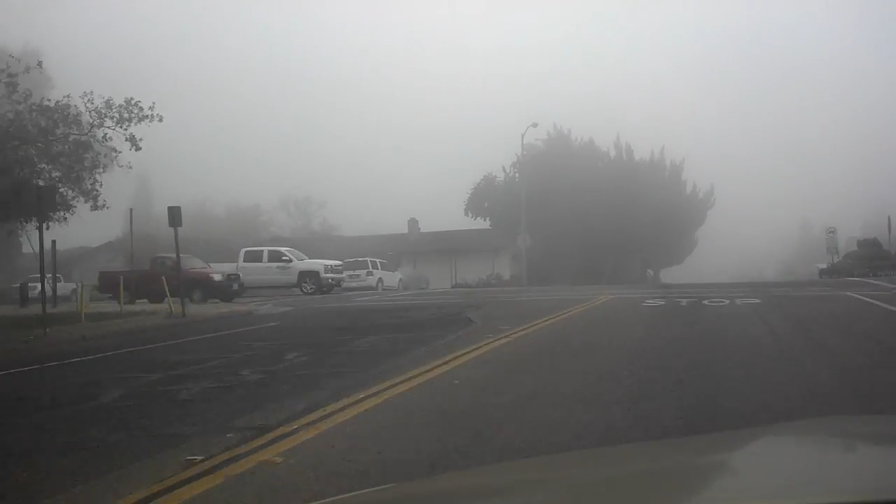car: (95, 251, 244, 304), (205, 246, 346, 297), (9, 273, 83, 307), (338, 256, 404, 293)
